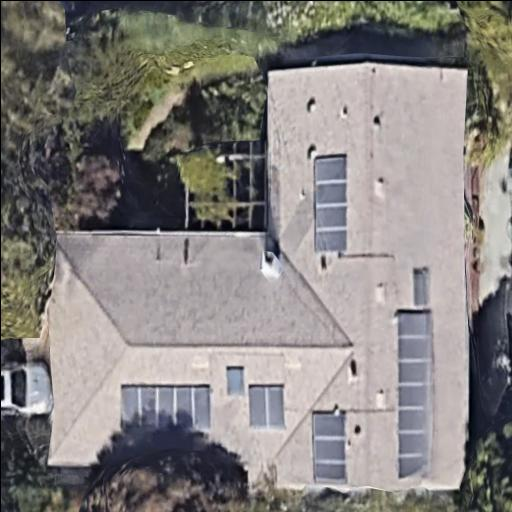Slope-Roof: (47, 65, 467, 488)
